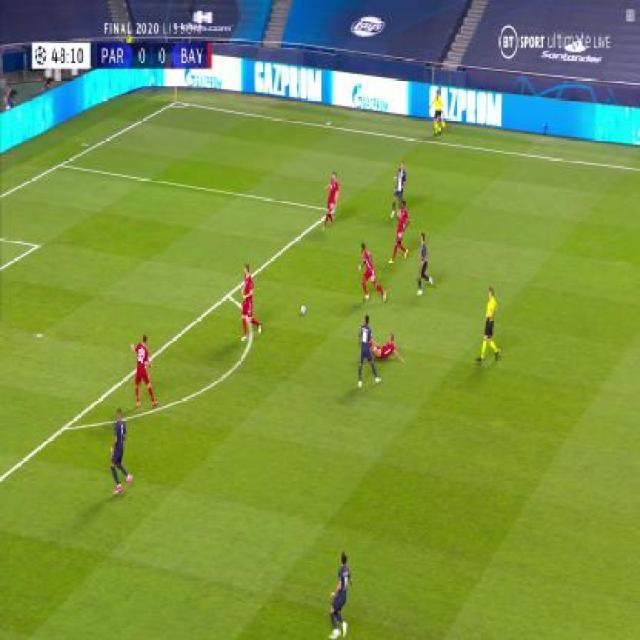ball: (300, 304, 306, 317)
player: (129, 333, 160, 413), (109, 408, 134, 499), (328, 552, 353, 640), (475, 285, 501, 367), (356, 315, 382, 392), (356, 241, 387, 303), (239, 264, 262, 346), (389, 198, 411, 266), (415, 232, 435, 295), (322, 170, 341, 230), (389, 159, 408, 218), (371, 331, 404, 364), (429, 90, 446, 139)
